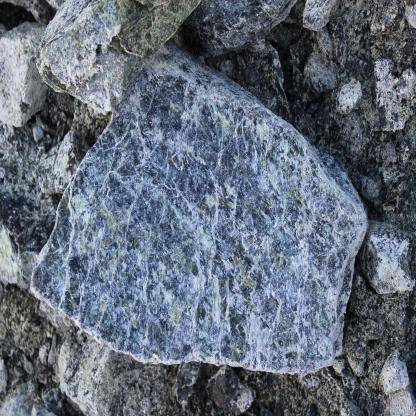stone: (30, 40, 366, 373), (182, 0, 297, 60), (0, 22, 49, 128), (362, 223, 416, 296), (373, 56, 416, 131), (206, 364, 255, 416), (303, 50, 337, 93), (381, 352, 412, 396), (303, 0, 342, 30), (335, 77, 362, 112)
